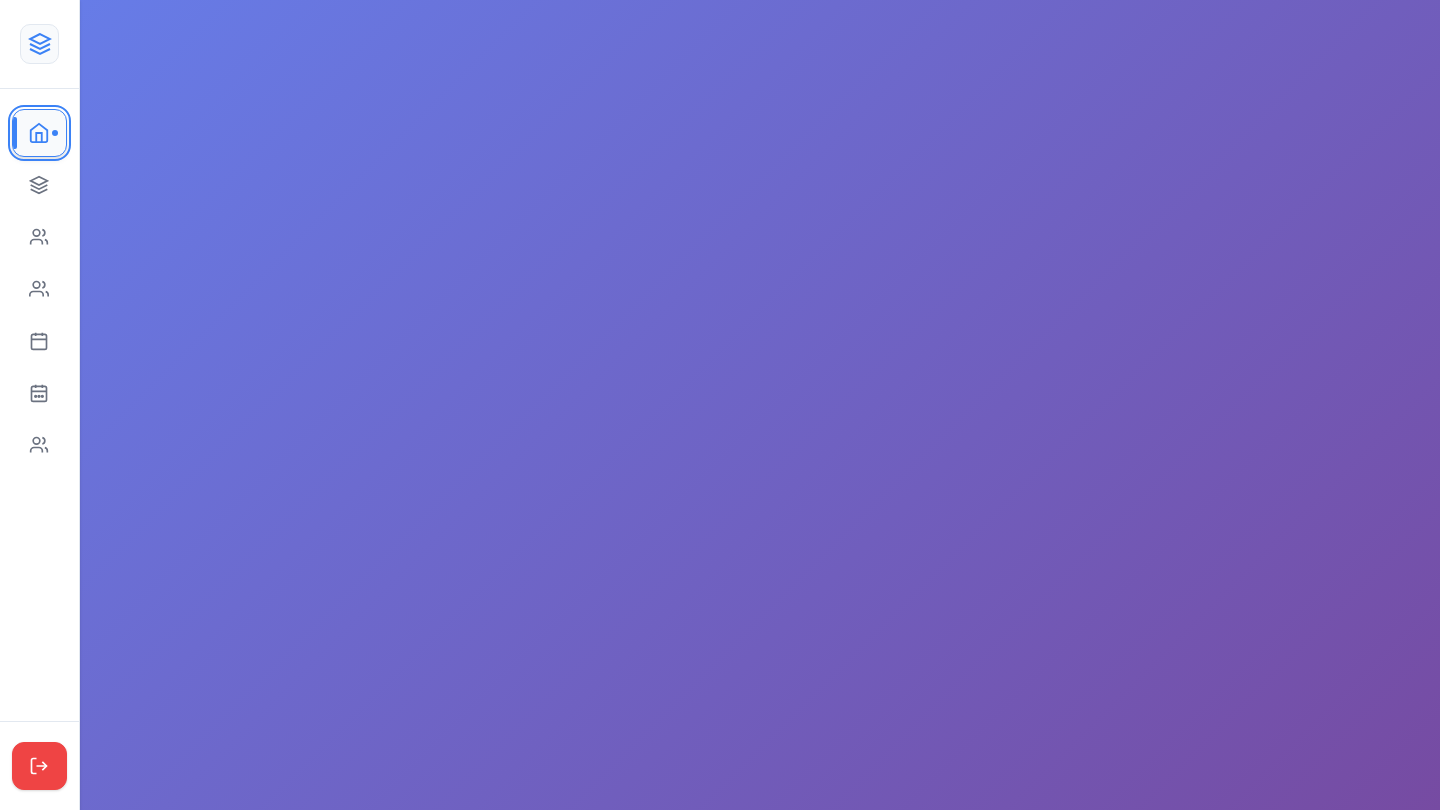
Test: Sidebar Component › renders sidebar with all navigation items
Note: Expand sidebar to see labels - usar getAllByRole pois há múltiplos elementos navigation
Hover over the navigation bar at (40, 405), box [0,0,80,809]
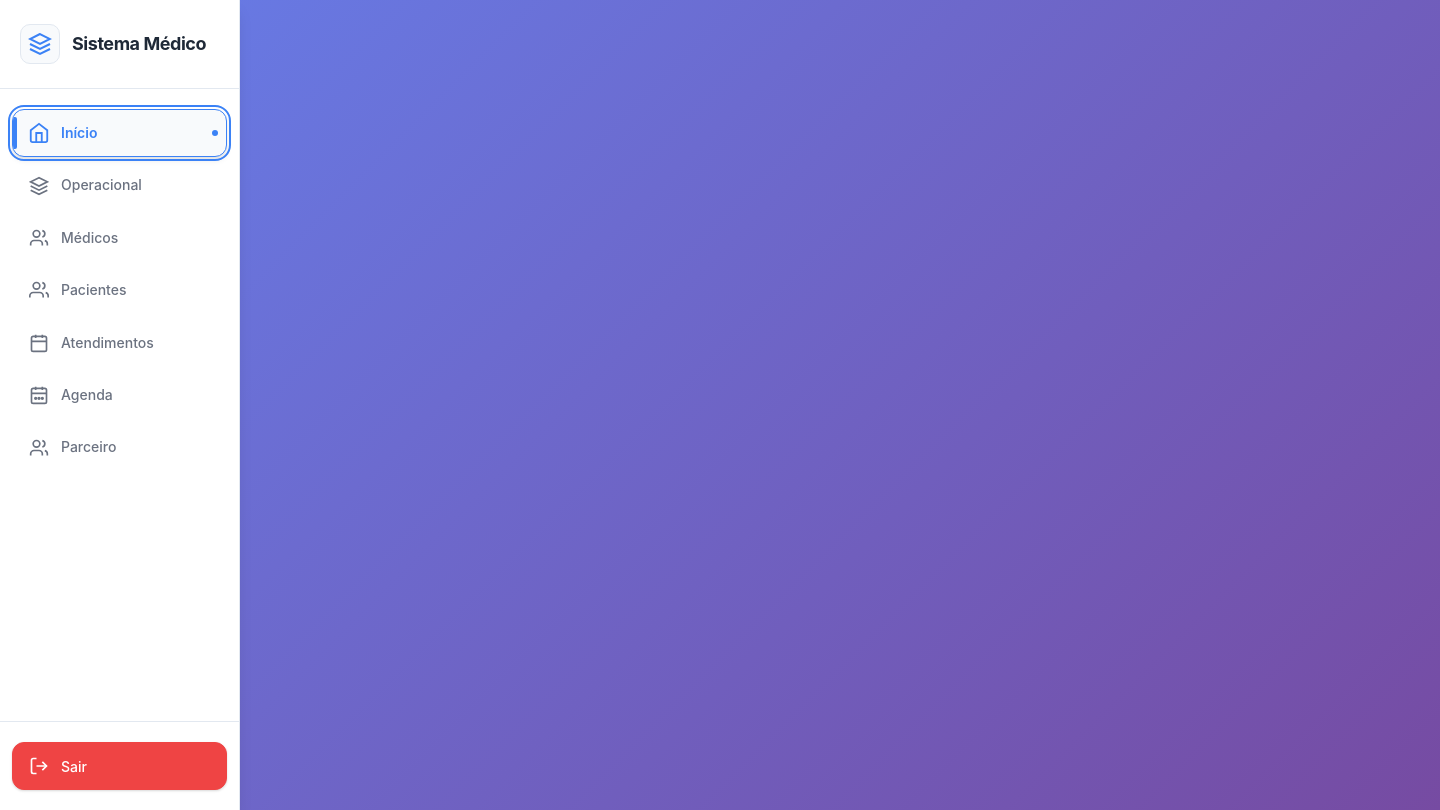
Result: the text "Sistema Médico" is shown at [72,30,206,58]
Result: the text "Início" is shown at [61,122,98,144]
Result: the text "Médicos" is shown at [61,227,118,249]
